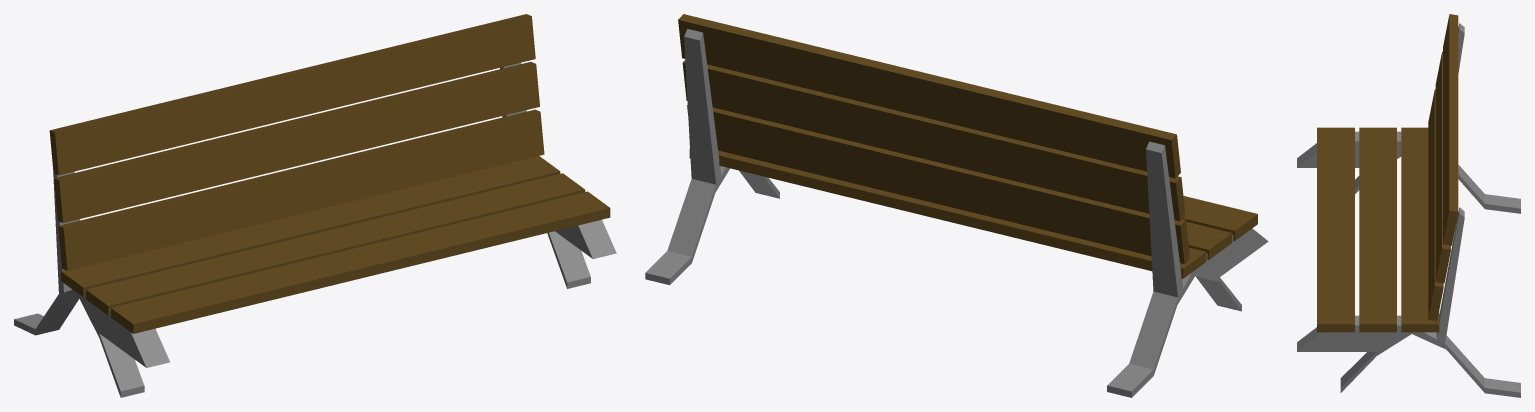
The model's file is Bench.fbx.
3 renders of one model, left to right at view 1: azimuth 30°, elevation 25°; view 2: azimuth 150°, elevation 25°; view 3: azimuth 270°, elevation 25°, orthographic. The views are drawn at different scales.
Parts seen in each view (by area): view 1: BenchWood, Bench; view 2: BenchWood, Bench; view 3: BenchWood, Bench.
Boxes of the visible parts, box(x1,y1,x2,y2) form: BenchWood: box(49, 14, 610, 333); Bench: box(14, 62, 616, 397); BenchWood: box(678, 14, 1257, 278); Bench: box(645, 29, 1268, 397); BenchWood: box(1317, 14, 1458, 332); Bench: box(1297, 23, 1520, 397).
Bounding box in the file's own units: 629 × 282 × 302.
